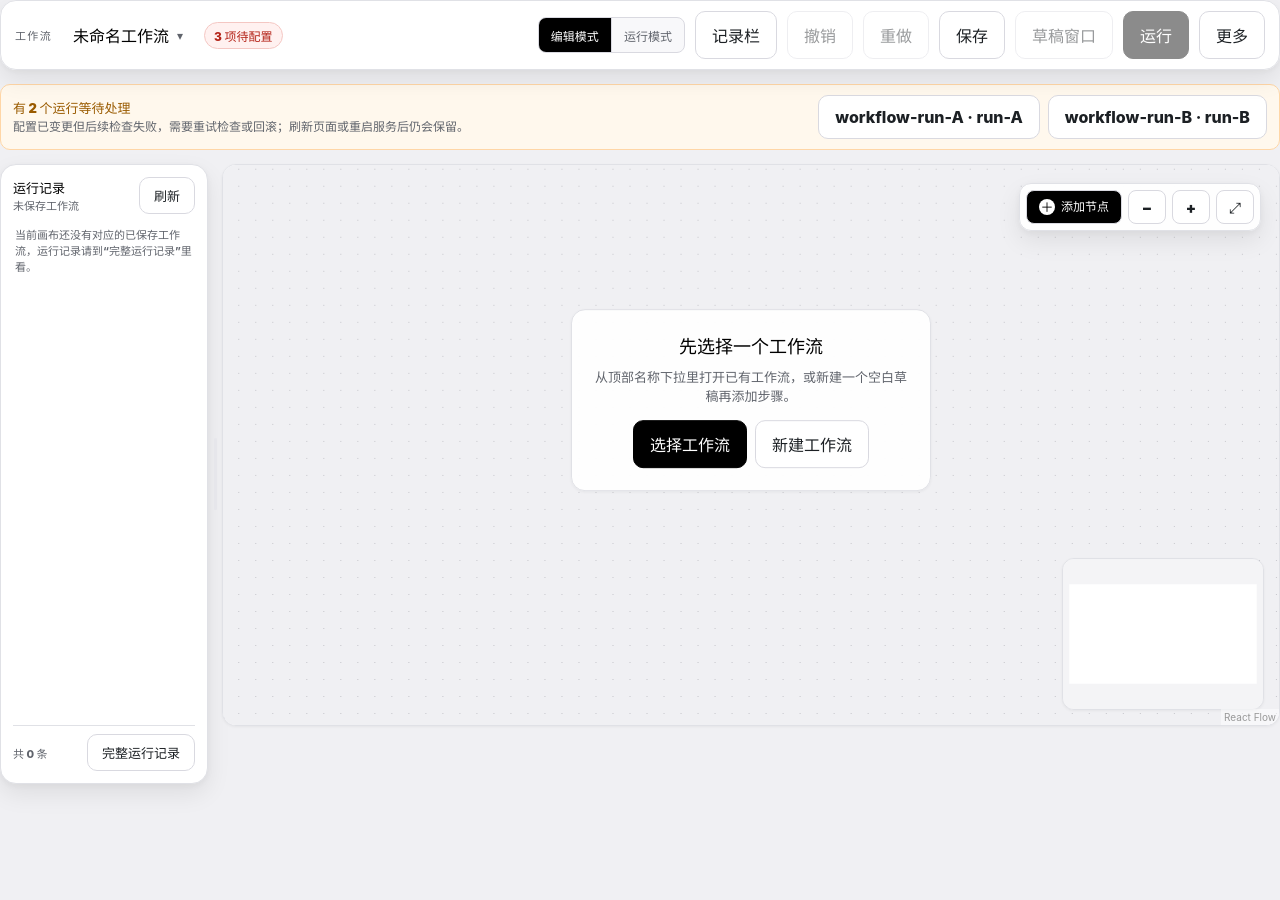
Test: WorkflowEditor 恢复运行隔离 › 通知重试的迟到响应不会覆盖新打开的运行
Step 1. Click the button "workflow-run-A · run-A" → [929, 117], box [818,95,1040,139]
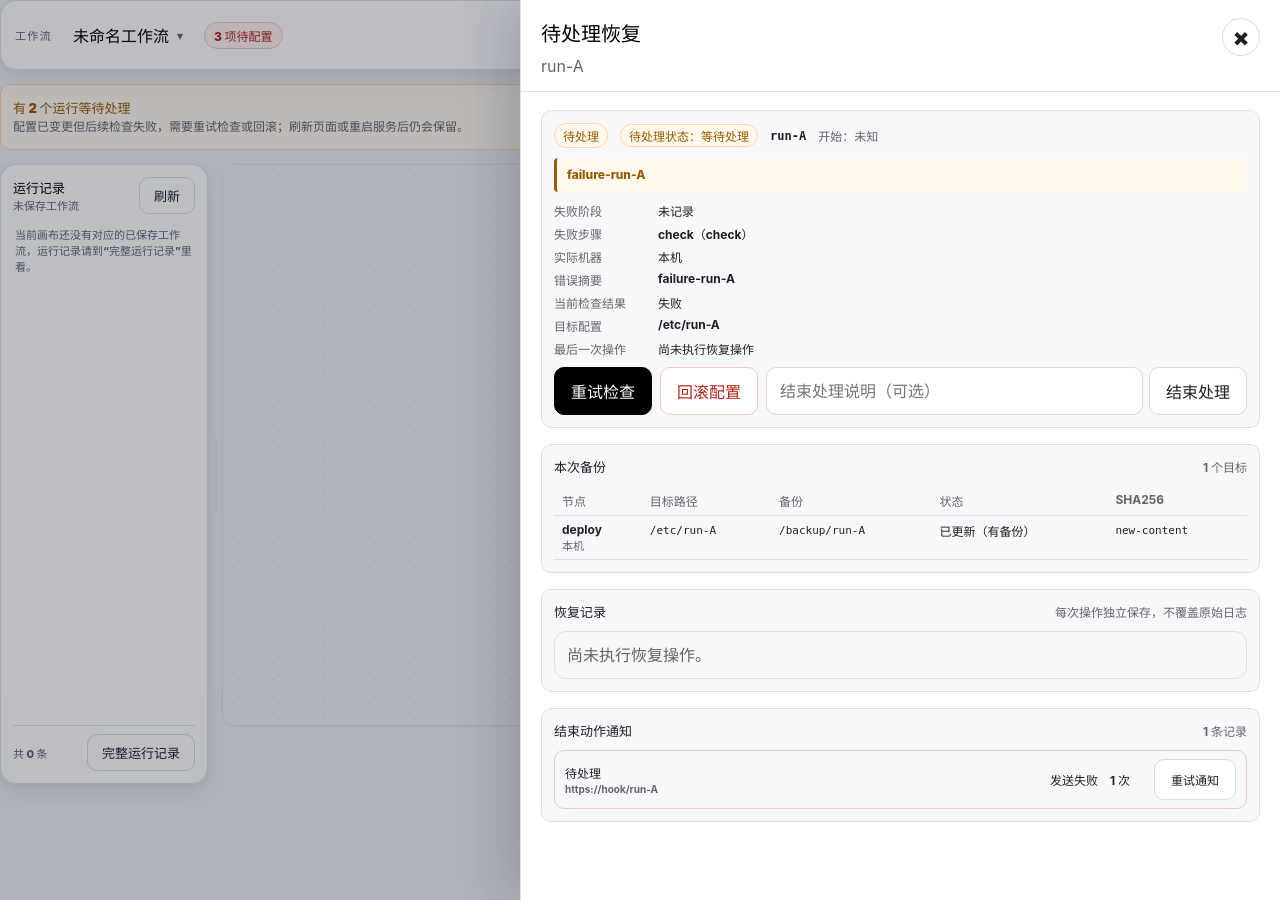
Step 2. Click the button "重试通知" → [1195, 780], box [1154,759,1236,800]
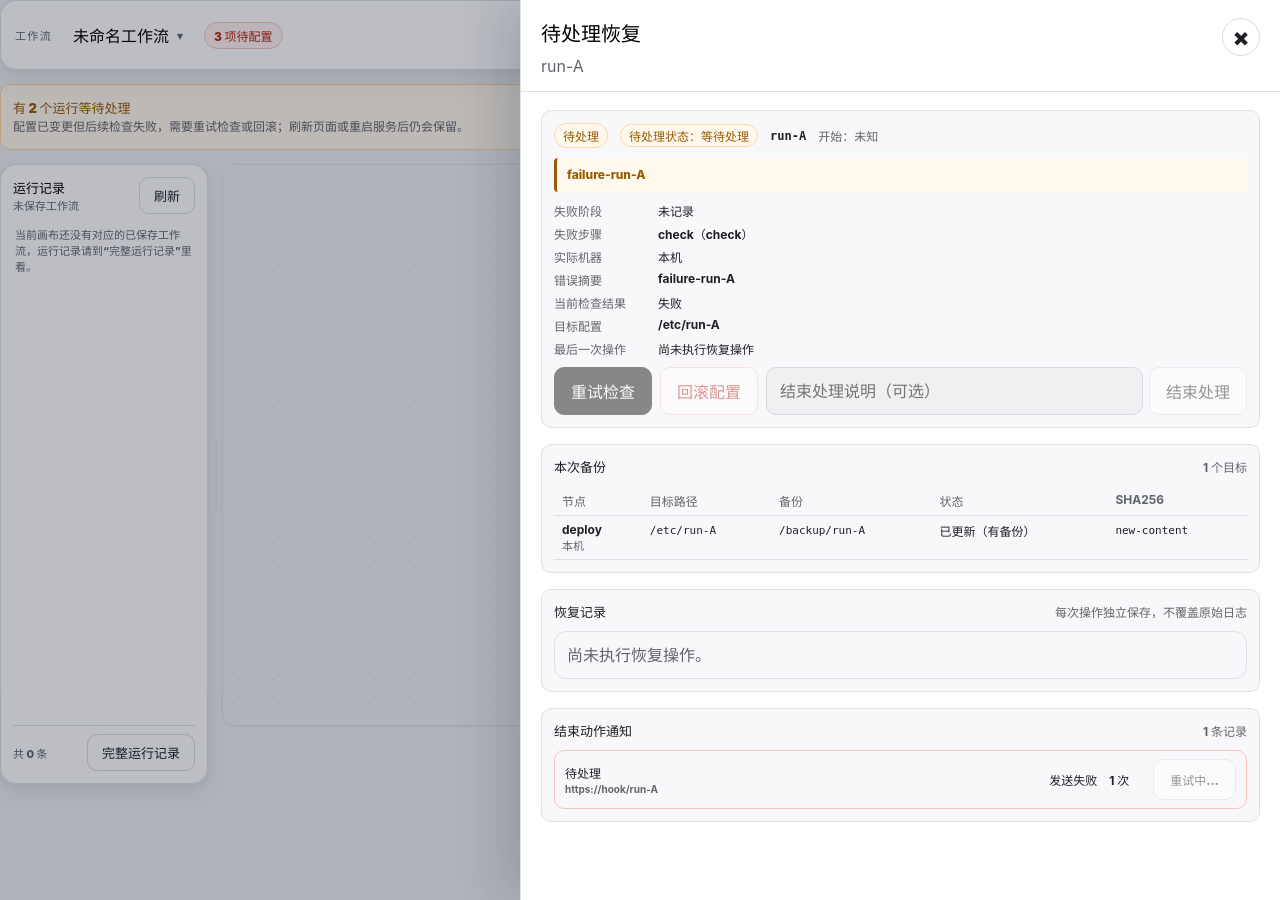
Step 3. Click the button "×" → [1241, 37], box [1222,18,1260,56]
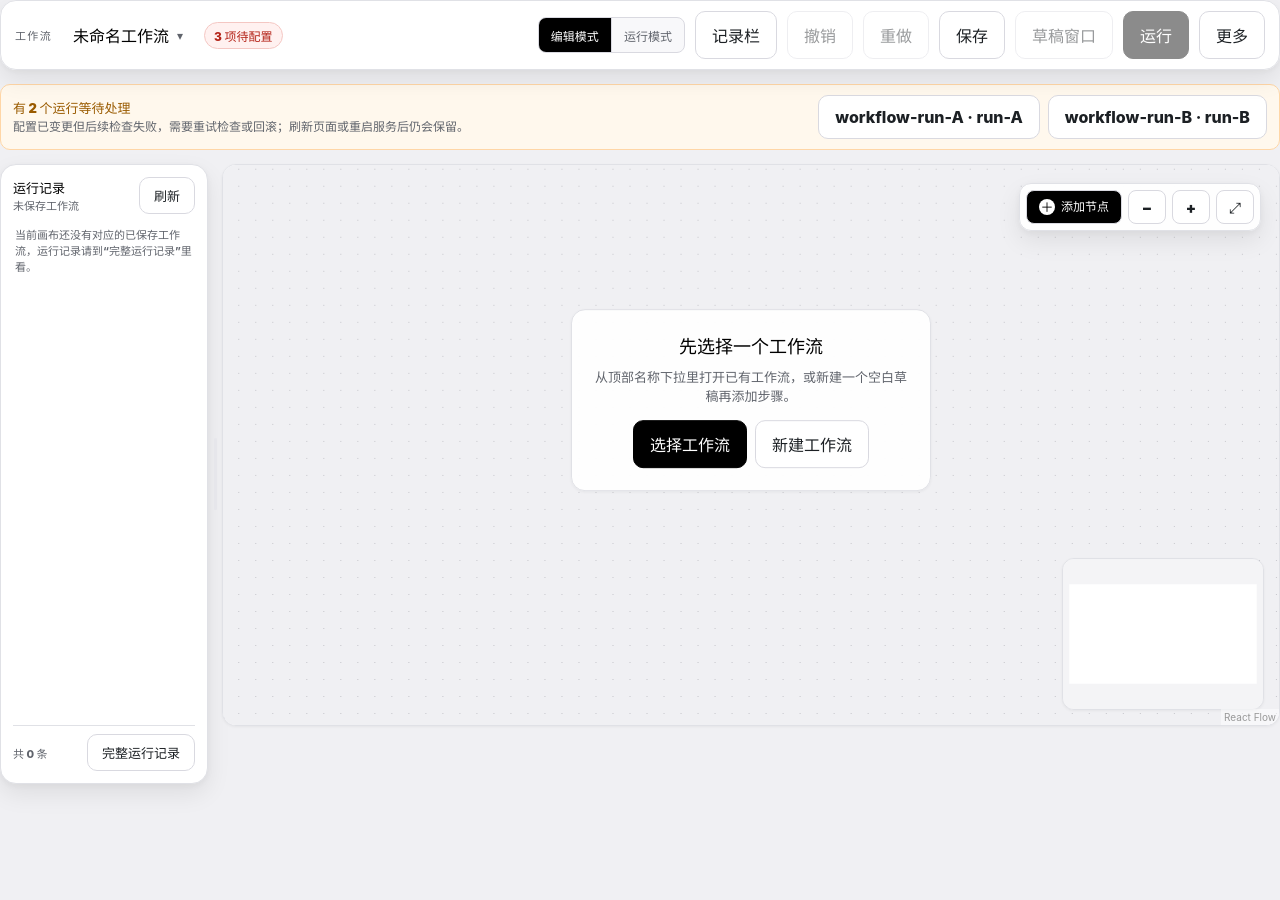
Step 4. Click the button "workflow-run-B · run-B" → [1157, 117], box [1048,95,1267,139]
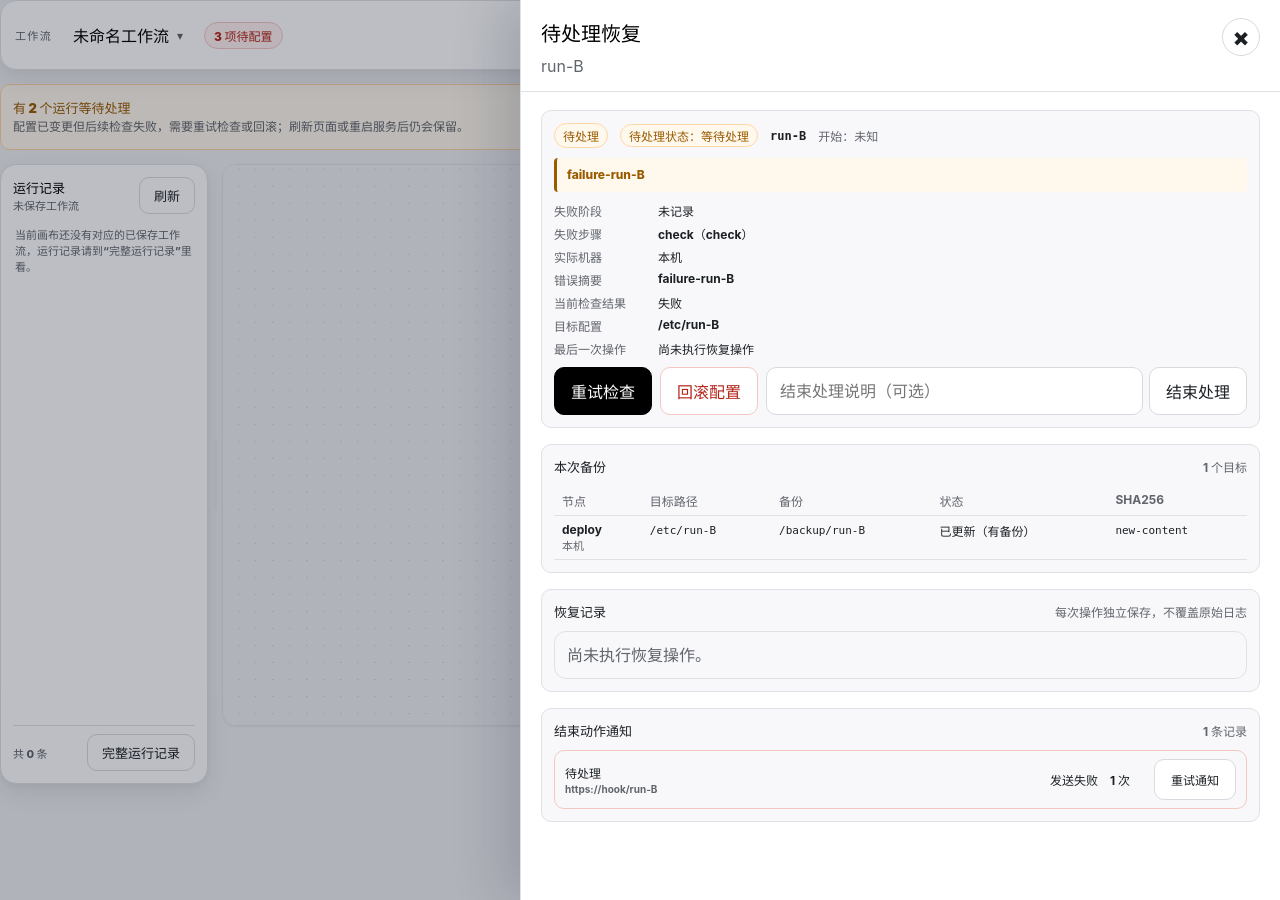
Expected: the text with class "workflowRecoveryDrawer" does not show "/etc/run-A"
Expected: the dialog with class "workflowRecoveryDrawer" shows "/etc/run-B", [658,317,719,332]
Expected: the button "重试通知" is enabled, [1154,759,1236,800]
